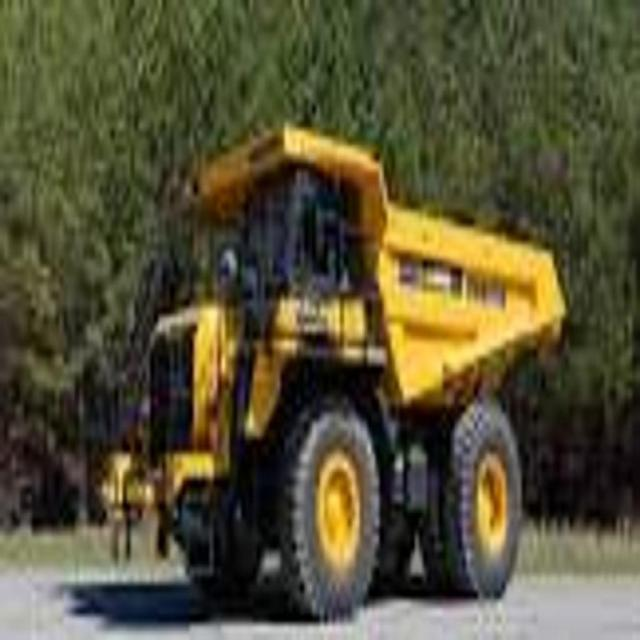dump_truck: (100, 114, 568, 624)
